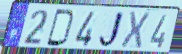2: (22, 9, 49, 46)
4: (73, 11, 98, 49), (149, 15, 167, 50)
D: (45, 8, 76, 48)
J: (97, 10, 126, 50)
X: (119, 11, 151, 50)
